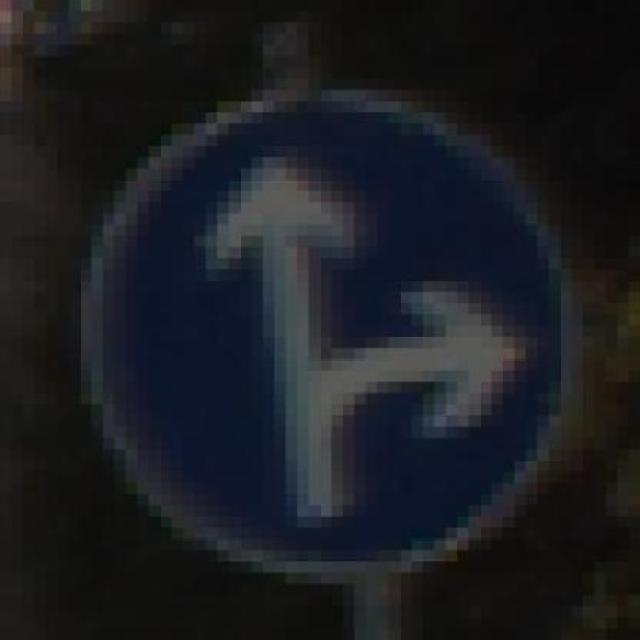Go Straight or Turn Right: (57, 78, 606, 584)
